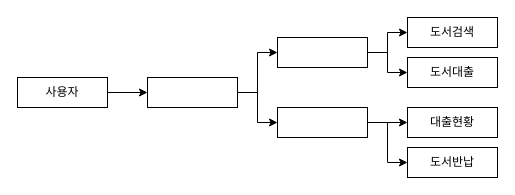
This 515x195 diagram has some shape labels left out. Each missing label, with the centre of its shape:
"로그인" goes at point 192,92.
"마이페이지" goes at point 322,122.
"자료실" goes at point 322,52.
